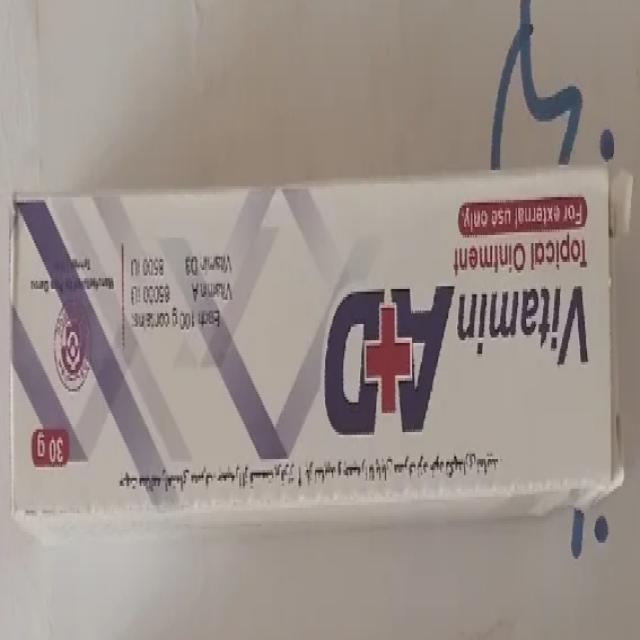drug-name: (322, 274, 596, 436)
